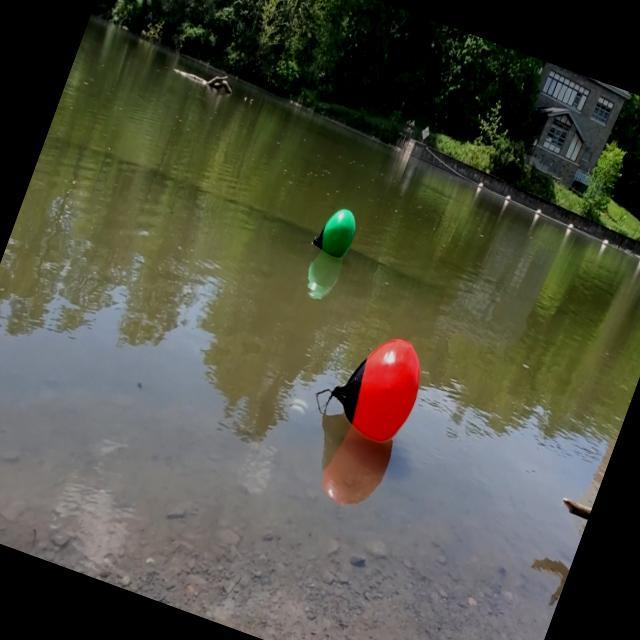buoy: (306, 314, 437, 451), (306, 195, 368, 264)
